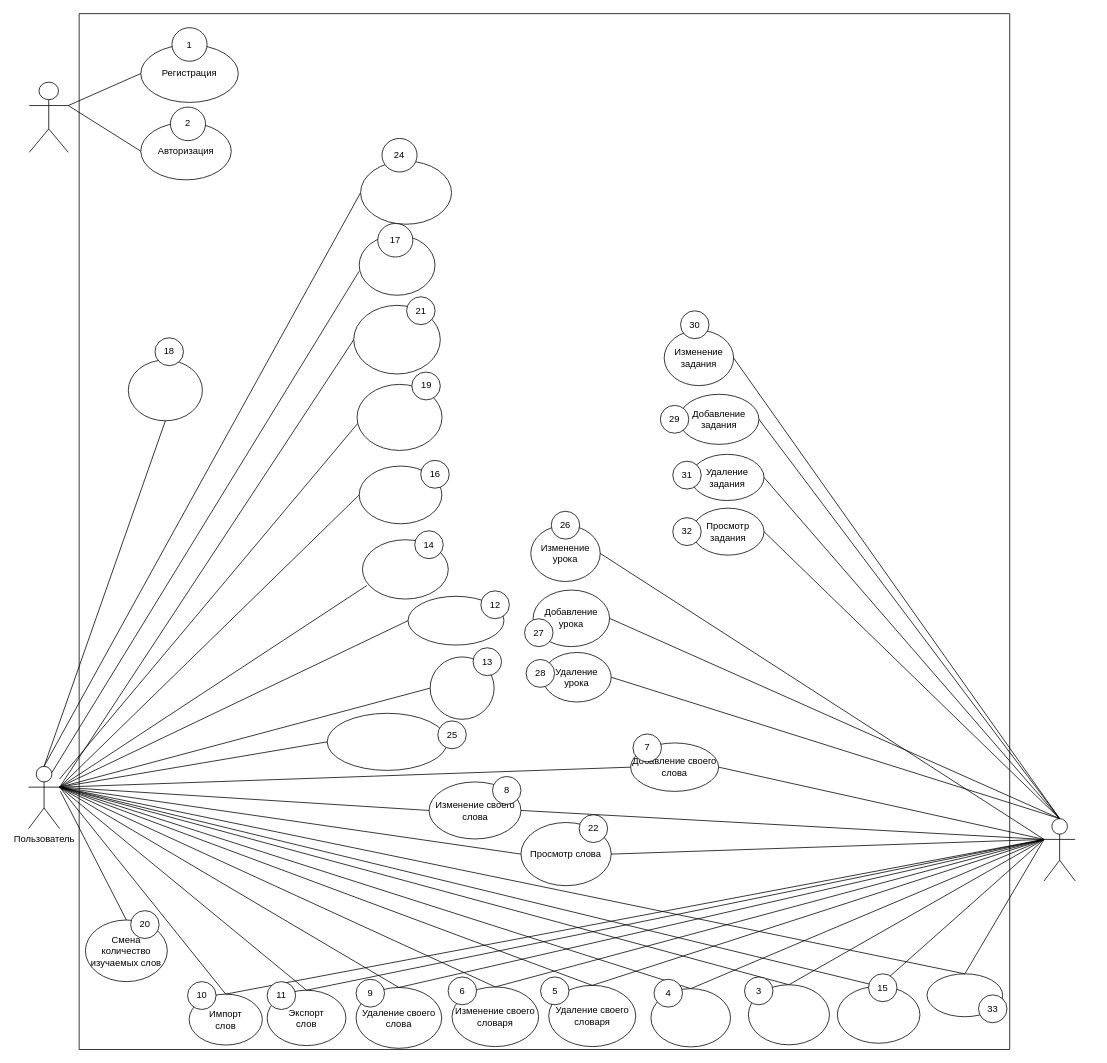
Some shapes in this 1107 by 1063 pixel diagram are drawn without their labels. Here are the shapes that lost their labels. From the top down, the box of each, then its label:
(28, 81, 68, 152): Гость
(360, 160, 452, 224): Спросить ответ у искусственного интеллекта
(358, 234, 435, 295): Смена пароля
(353, 305, 440, 374): Смена режима изучения лексикона
(128, 359, 202, 421): Смена количества правильных ответов
(356, 384, 442, 450): Смена режима изучения грамматики
(358, 465, 442, 524): Просмотр настроек аккаунта
(362, 539, 448, 599): Решение заданий
(407, 596, 504, 645): Просмотр словарей администратора
(429, 656, 494, 719): Просмотр статистики
(326, 713, 447, 770): Перевод слов в соревновательном режиме
(1043, 818, 1075, 881): Администратор
(748, 984, 829, 1045): Просмотр своих словарей
(837, 986, 920, 1043): Просмотр уроков
(926, 973, 1003, 1017): Просмотр тем
(650, 988, 731, 1047): Добавление своего словаря
